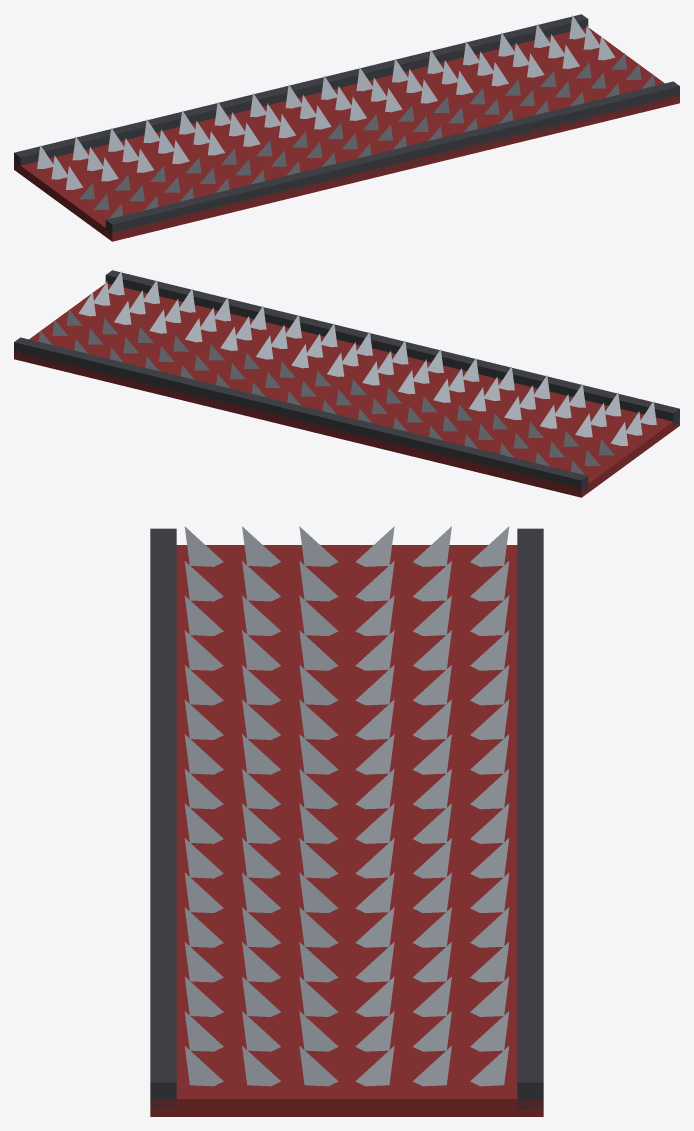
File: spikeStrip.glb
3 renders of one model, top to bottom at view 1: azimuth 30°, elevation 25°; view 2: azimuth 150°, elevation 25°; view 3: azimuth 270°, elevation 25°, orthographic. The views are drawn at different scales.
Visible parts, largest first — view 1: spikeStrip; view 2: spikeStrip; view 3: spikeStrip.
Boxes of the visible parts, <box> form: spikeStrip: <box>14,14,679,241</box>; spikeStrip: <box>14,270,679,497</box>; spikeStrip: <box>150,526,543,1116</box>.
Bounding box in the file's own units: 8 × 0.3649 × 2.4.
